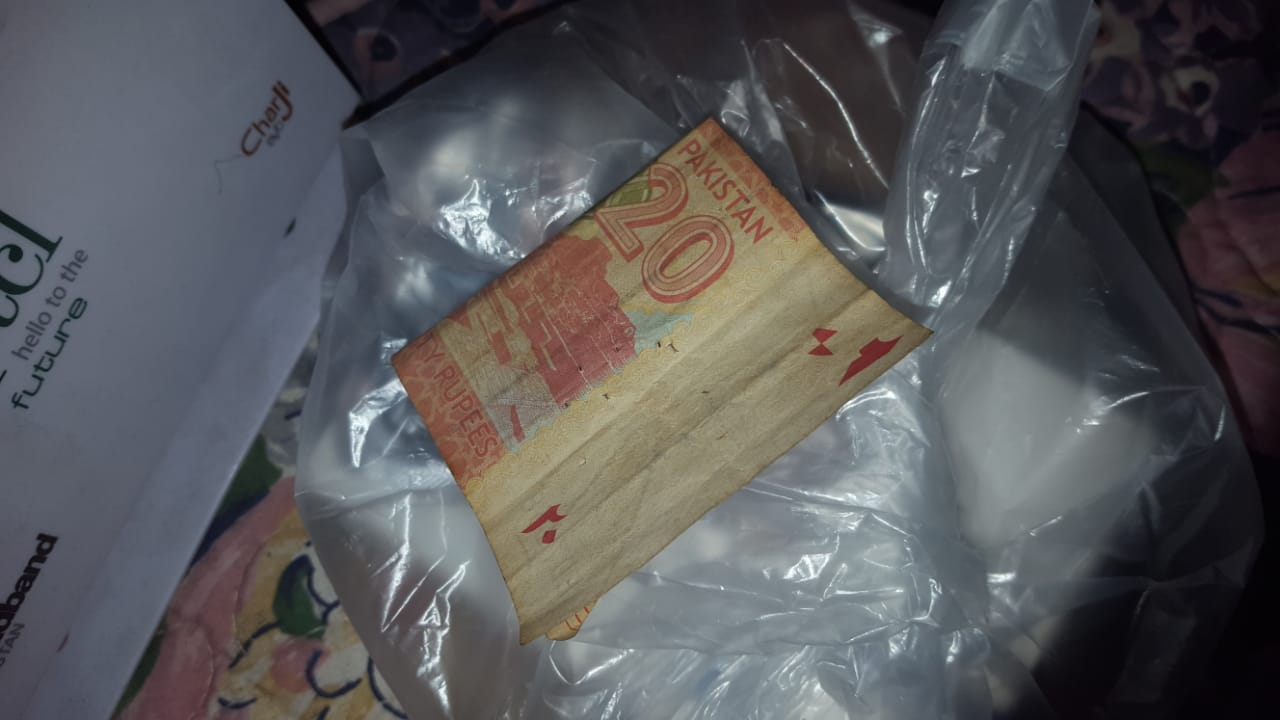20 rupee: (381, 133, 940, 617)
